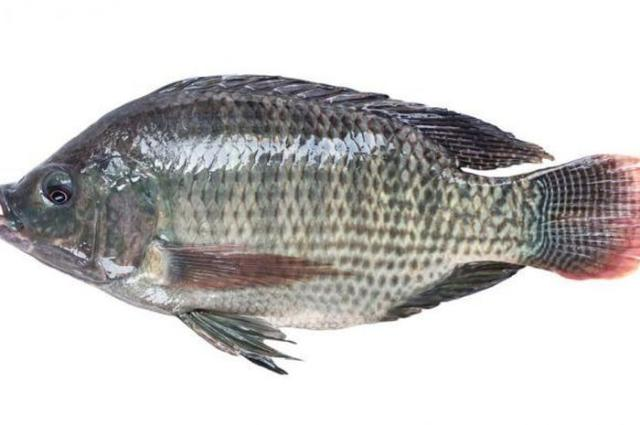Sirip Anal: (376, 234, 540, 348)
Sirip Dada: (138, 219, 364, 313)
Sirip Ekor: (520, 135, 640, 321)
Sirip Perut: (166, 290, 308, 386)
Sirip Punggung: (144, 60, 566, 182)
